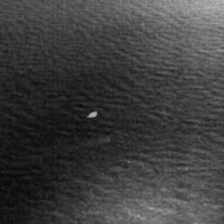Target: (86, 111, 98, 118)
